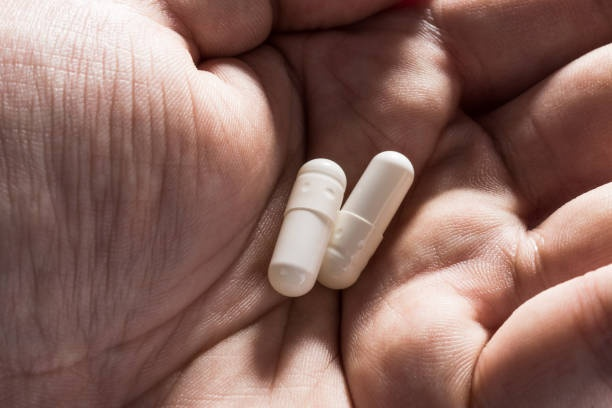pills: (322, 152, 421, 288), (269, 141, 348, 299)
